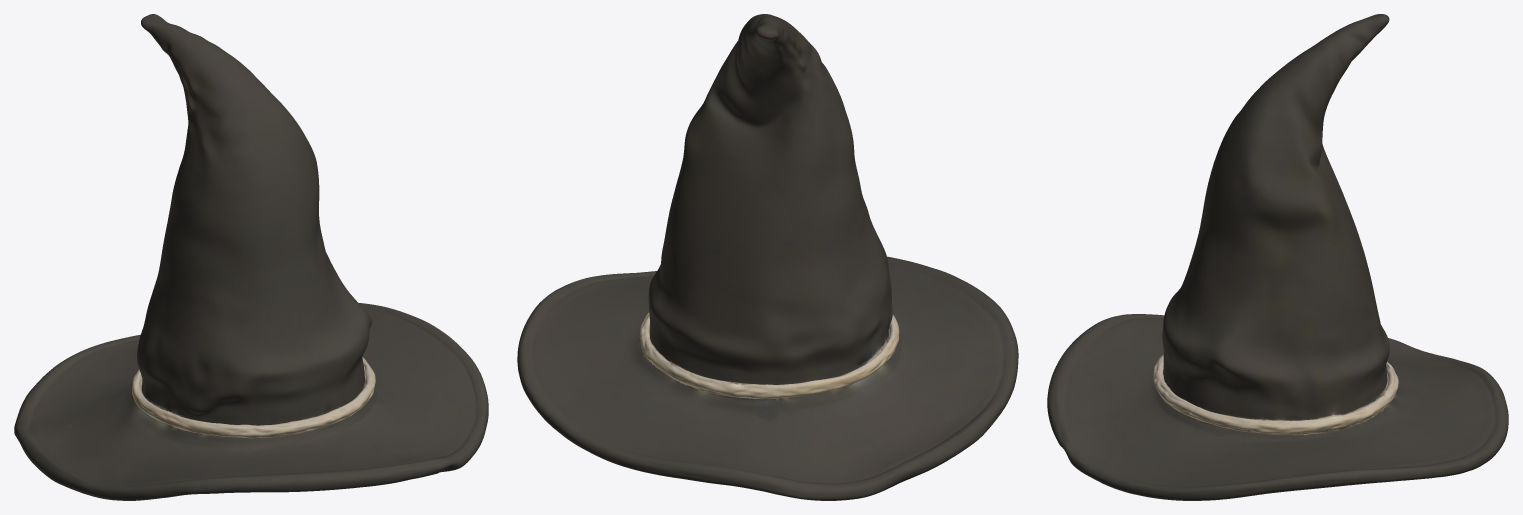
File: detailed_realistic_model_sortinghat_10.glb
3 renders of one model, left to right at view 1: azimuth 30°, elevation 25°; view 2: azimuth 150°, elevation 25°; view 3: azimuth 270°, elevation 25°, orthographic. The views are drawn at different scales.
Parts seen in each view (by area): view 1: tripo_node_3afdb060-605f-4365-bf1c-06c74b9dcb60; view 2: tripo_node_3afdb060-605f-4365-bf1c-06c74b9dcb60; view 3: tripo_node_3afdb060-605f-4365-bf1c-06c74b9dcb60.
Boxes of the visible parts, x1=… form: tripo_node_3afdb060-605f-4365-bf1c-06c74b9dcb60: x1=14, y1=14, x2=488, y2=500; tripo_node_3afdb060-605f-4365-bf1c-06c74b9dcb60: x1=517, y1=14, x2=1018, y2=500; tripo_node_3afdb060-605f-4365-bf1c-06c74b9dcb60: x1=1047, y1=14, x2=1508, y2=500.
Bounding box in the file's own units: 1 × 0.961 × 0.9967.
Materials: 1 (1 with a texture image).
